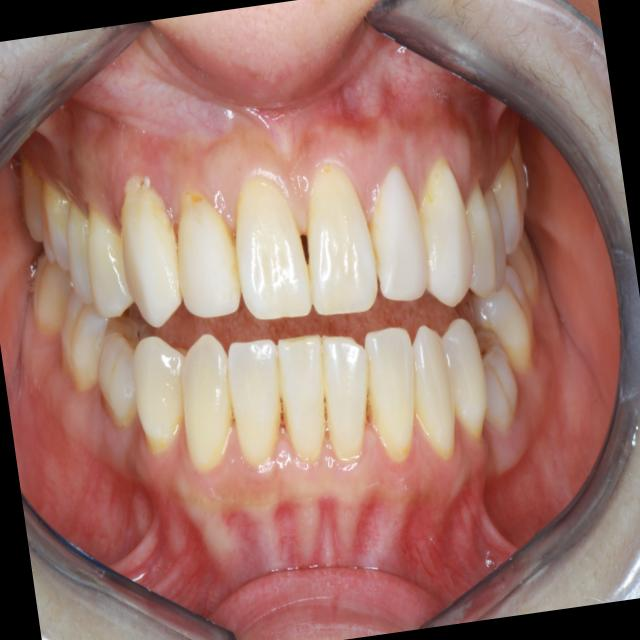tooth: (215, 157, 329, 343), (96, 154, 199, 347), (290, 148, 391, 327), (155, 185, 262, 337), (355, 145, 444, 314), (307, 313, 390, 490), (117, 318, 207, 480), (407, 142, 487, 323), (261, 318, 346, 487), (171, 323, 251, 502), (220, 325, 303, 492), (350, 306, 430, 477), (467, 248, 550, 390), (431, 304, 502, 458), (404, 313, 469, 473), (73, 192, 139, 328), (449, 168, 508, 316), (85, 305, 148, 439), (466, 317, 531, 438), (48, 276, 112, 397), (25, 162, 77, 285), (53, 188, 102, 316), (22, 245, 81, 348), (486, 152, 535, 262), (479, 176, 517, 293), (503, 219, 548, 312), (13, 158, 53, 254), (504, 132, 535, 214)
